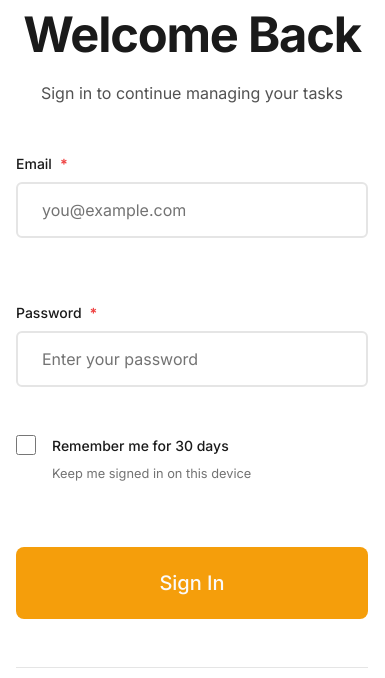
Scenario: Login Page › Accessibility › announces errors to screen readers
In the field labelled "Email *": [192, 210] box [16, 182, 368, 238], type "invalid"
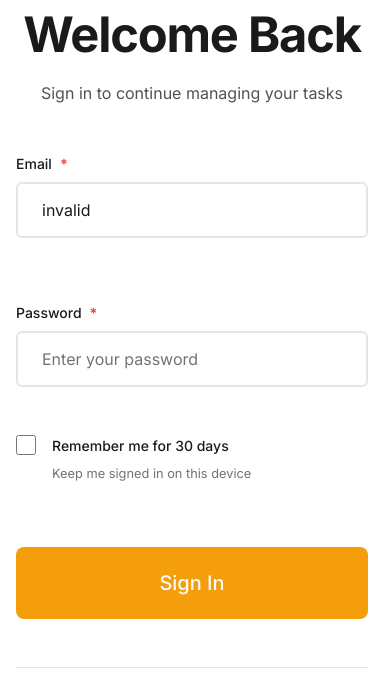
Leave the field labelled "Email *", box [16, 182, 368, 238]
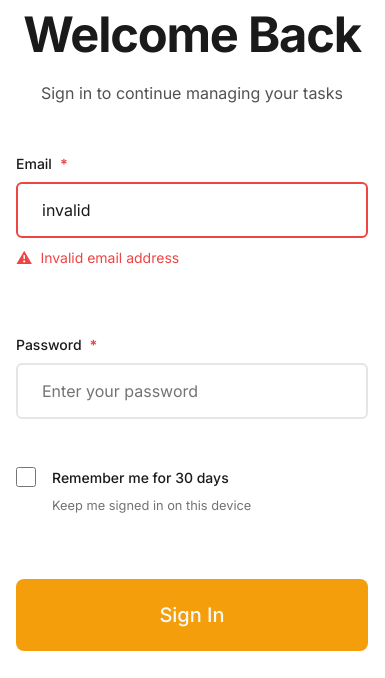
expect the message "Invalid email address" is shown: met, box [40, 249, 179, 266]
